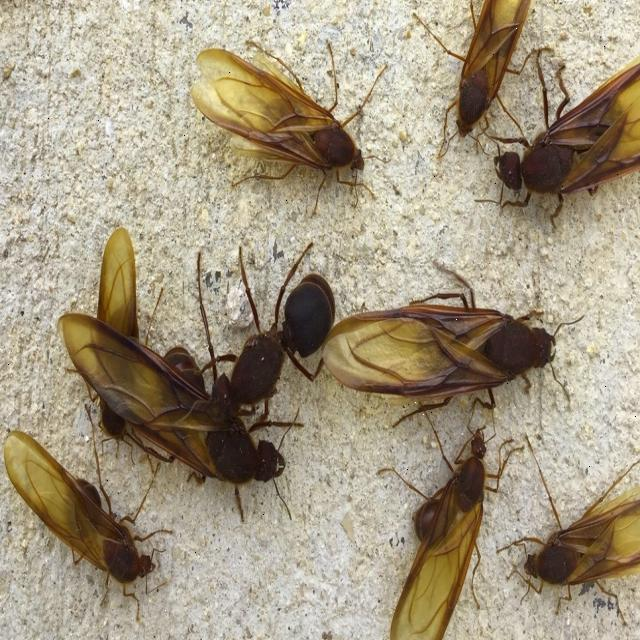Alive-Female-Alate: (56, 251, 304, 523), (321, 260, 585, 430), (473, 49, 640, 229)
Alive-Female-Dealate: (194, 242, 336, 434)
Alive-Male-Alate: (4, 404, 172, 622), (191, 38, 392, 220), (376, 398, 524, 640), (495, 433, 640, 625), (66, 226, 164, 475), (412, 0, 551, 158)
